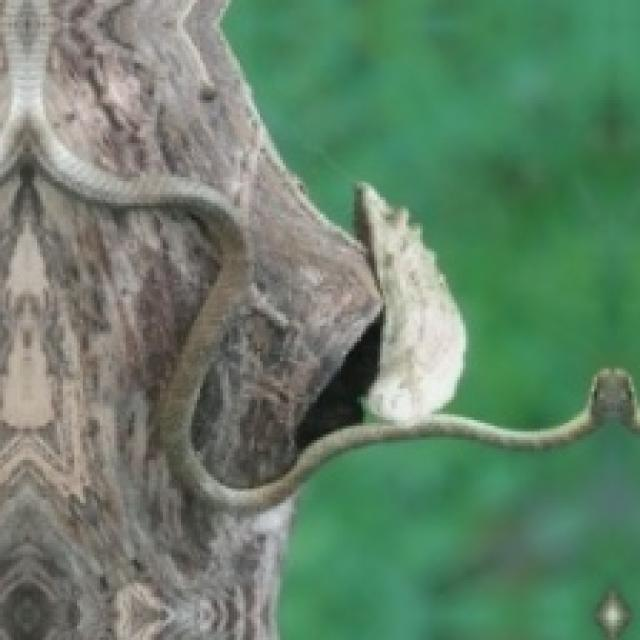paradise tree snake: (0, 0, 463, 637), (229, 0, 637, 423), (46, 0, 374, 480), (0, 174, 271, 637), (283, 429, 637, 637)
